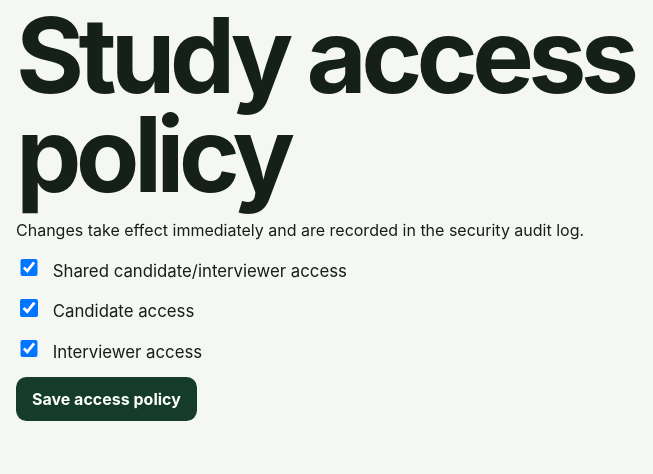
Test: AccessPolicyPage › loads, edits, and saves policy
This screenshot has width=653, height=474.
What coordinates should you click on to do the following:
click the checkbox labelled "Shared candidate/interviewer access"
I would click on:
 (29, 267)
Its box is [20,259,38,276].
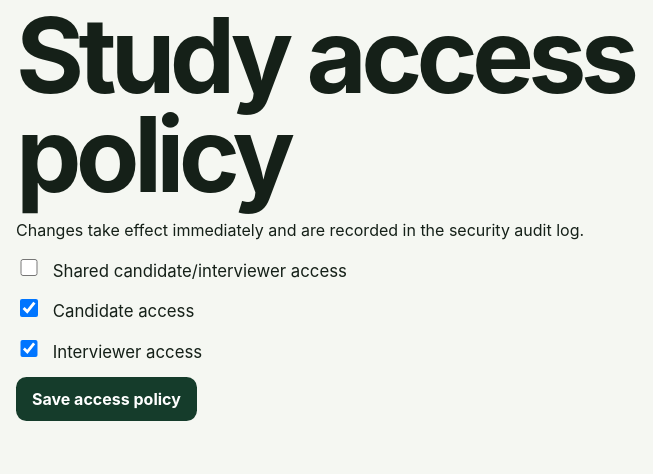
What coordinates should you click on to do the following:
click the checkbox labelled "Candidate access"
I would click on:
 (29, 308)
Its box is [20,299,38,317].
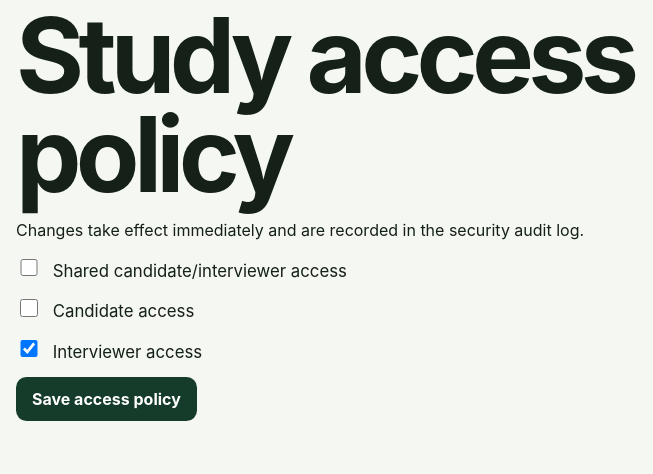
What coordinates should you click on to do the following:
click the checkbox labelled "Interviewer access"
I would click on:
 (29, 349)
Its box is [20,340,38,357].
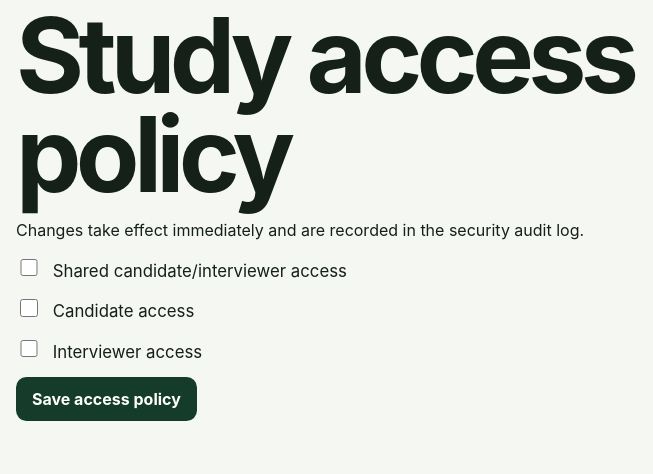
What coordinates should you click on to do the following:
click the button "Save access policy"
I would click on:
 (106, 399)
Its box is [16,377,197,421].
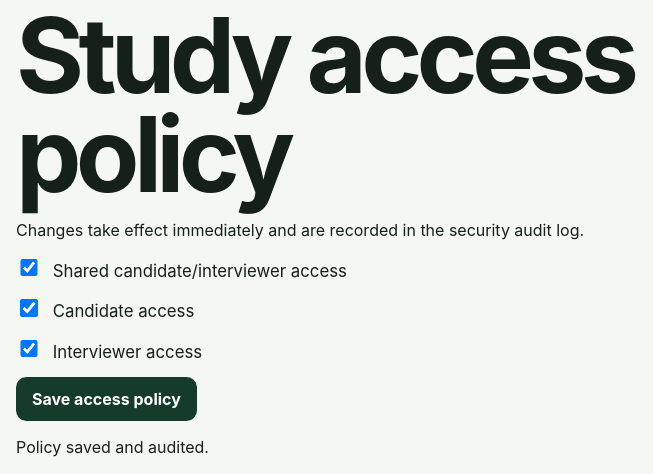
Now the text "Policy saved and audited." is shown, box [16,437,209,457]
